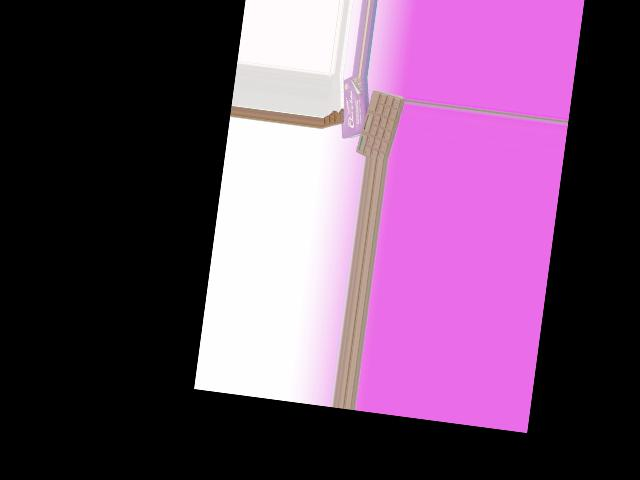chocolate: (354, 89, 406, 158)
